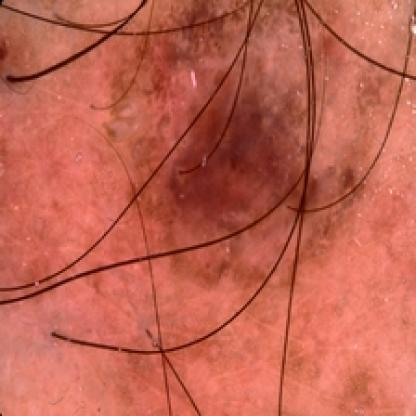Skin_Cancer-Malignant: (93, 0, 383, 300)
